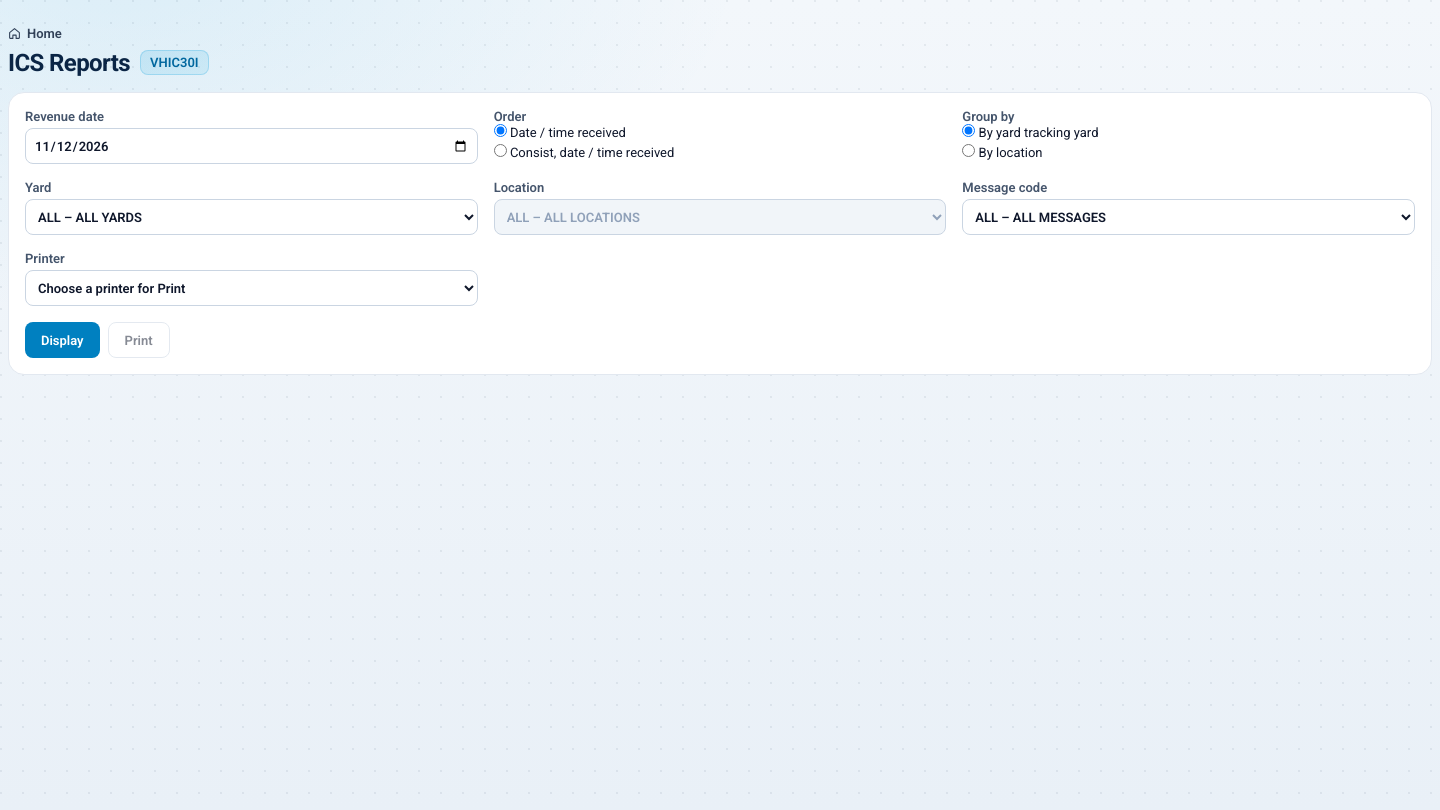
Scenario: ICS reports page (old VHIC30I / VHIC31I) › shows the middleware's message when the date is refused
Check: the date field labelled "Revenue date" is shown, box 25,128 -> 478,164
Click the button "Display": (62, 340) 25,322 -> 100,358
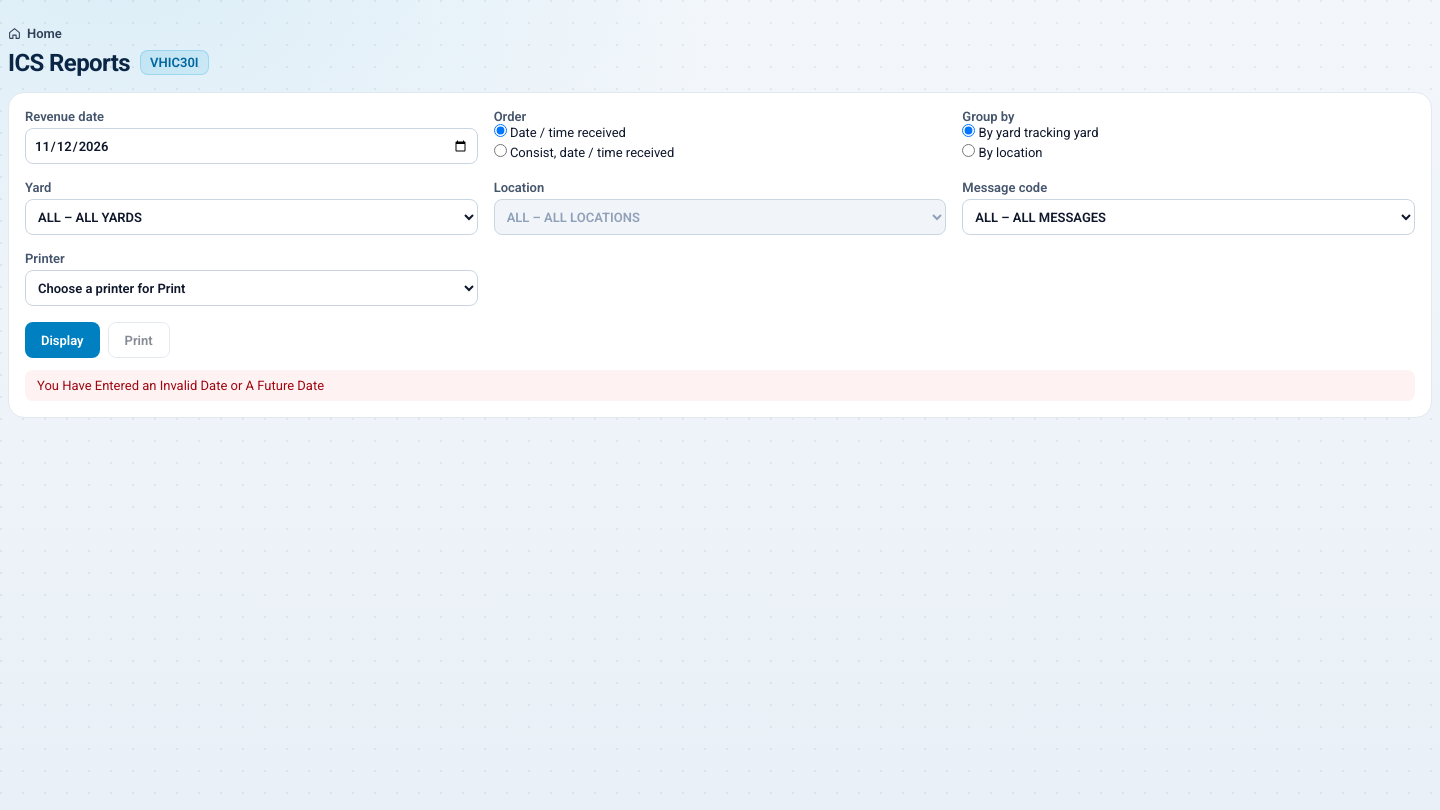
Check: the message reads "You Have Entered an Invalid Date or A Future Date", box 37,378 -> 324,393
